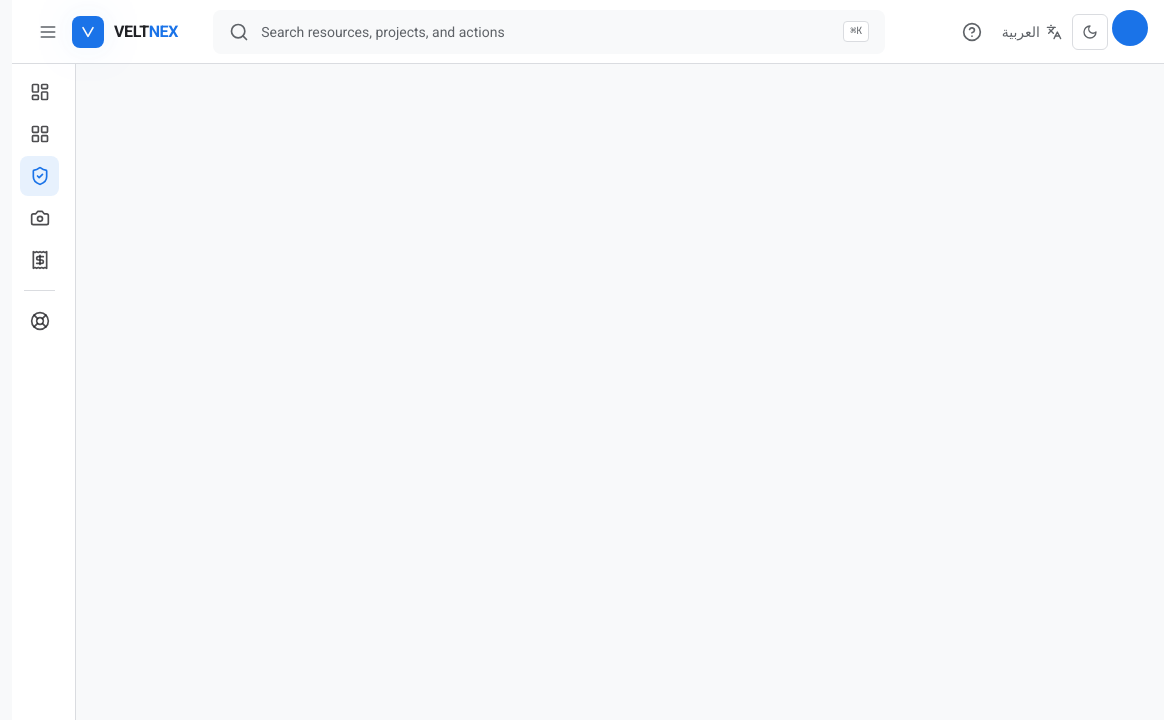
Scenario: Portal navigation › has a direct Projects action from /my/access
Click the button titled "Projects" at (40, 134), box [20,114,59,154]
(page scrolled)
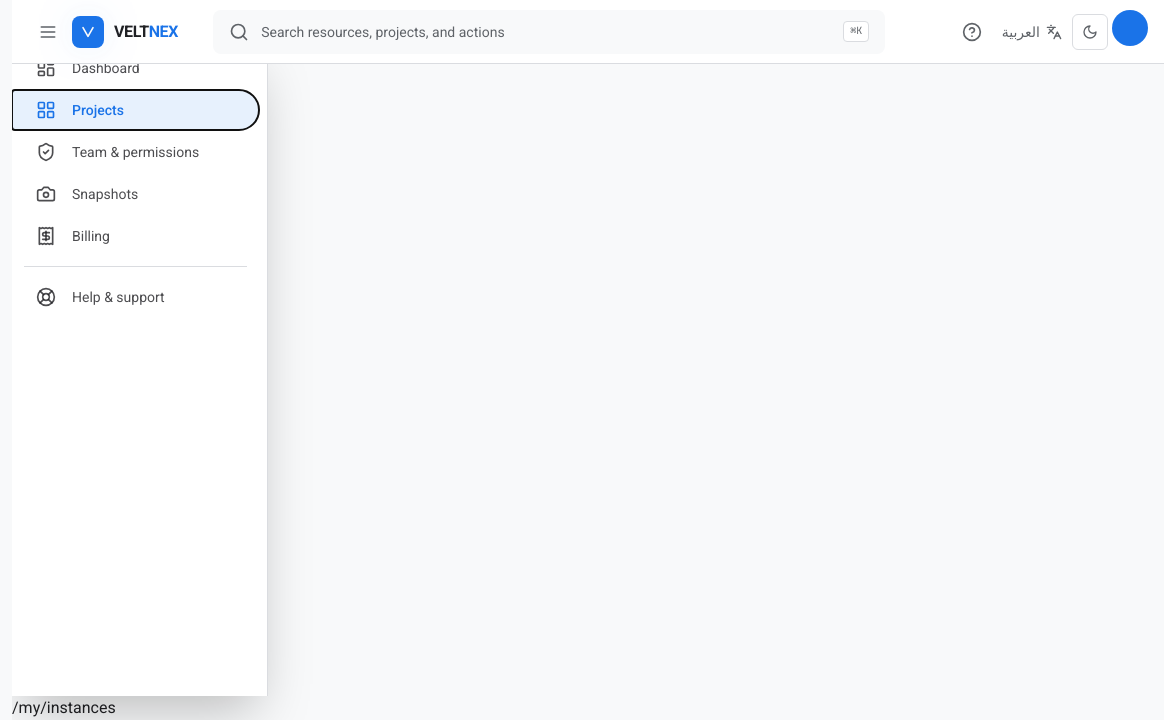
Expected: the text with test id "location" reads "/my/instances", [12,698,116,717]
